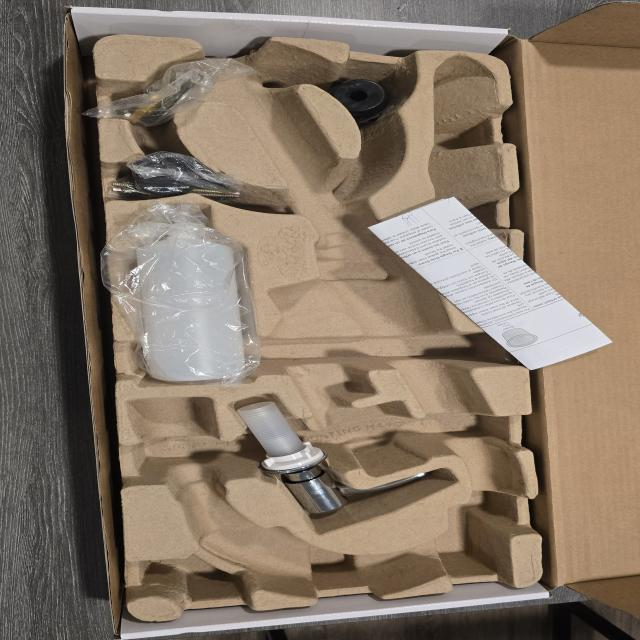1m: (129, 39, 521, 594)
2: (235, 401, 430, 518)
3: (137, 208, 253, 382)
4m: (427, 56, 509, 277)
5: (328, 77, 387, 125)
6: (80, 56, 257, 127)
7: (106, 151, 241, 200)
8: (364, 195, 615, 373)
